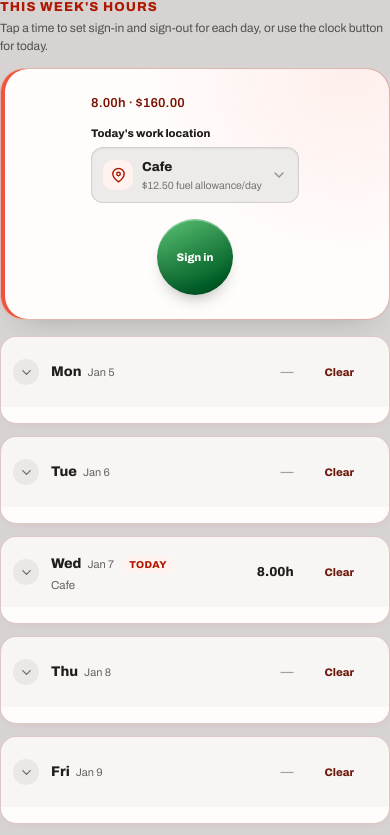
Test: Entry screen — day accordion structure and keyboard behavior › opens and closes via mouse click, toggling aria-expanded
What coordinates should you click on to do the following:
click the button with class "day-row-toggle" showing "Wed Jan 7 Today Cafe"
I would click on:
 (129, 572)
Its box is [13, 553, 245, 592].
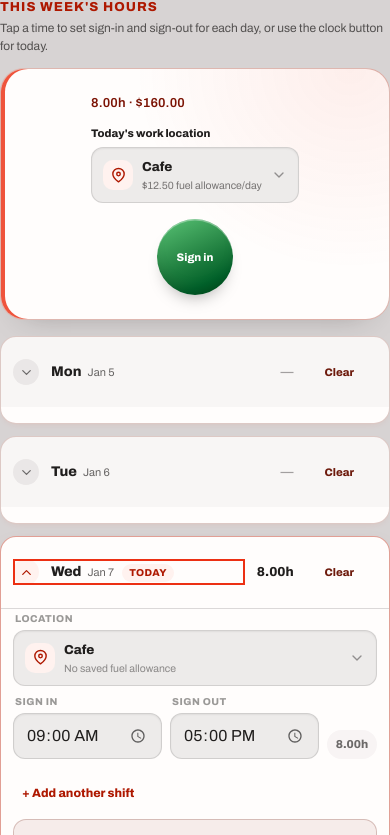
Expected: the button with class "day-row-toggle" is expanded
What coordinates should you click on to do the following:
click the button with class "day-row-toggle" showing "Wed Jan 7 Today"
I would click on:
 (129, 572)
Its box is [13, 559, 245, 585].
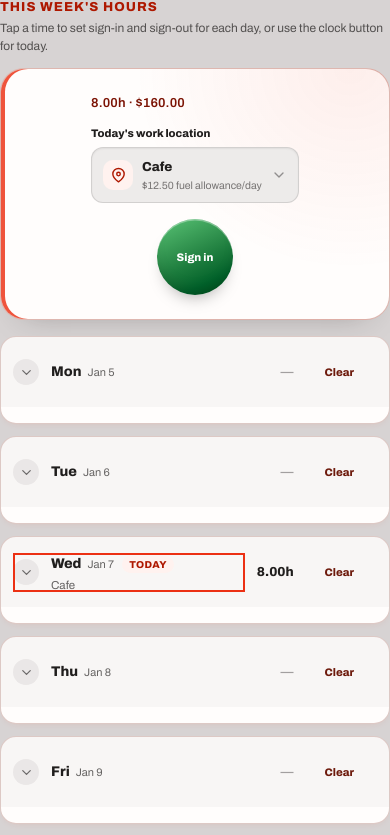
Expected: the button with class "day-row-toggle" is collapsed, [13, 553, 245, 592]
